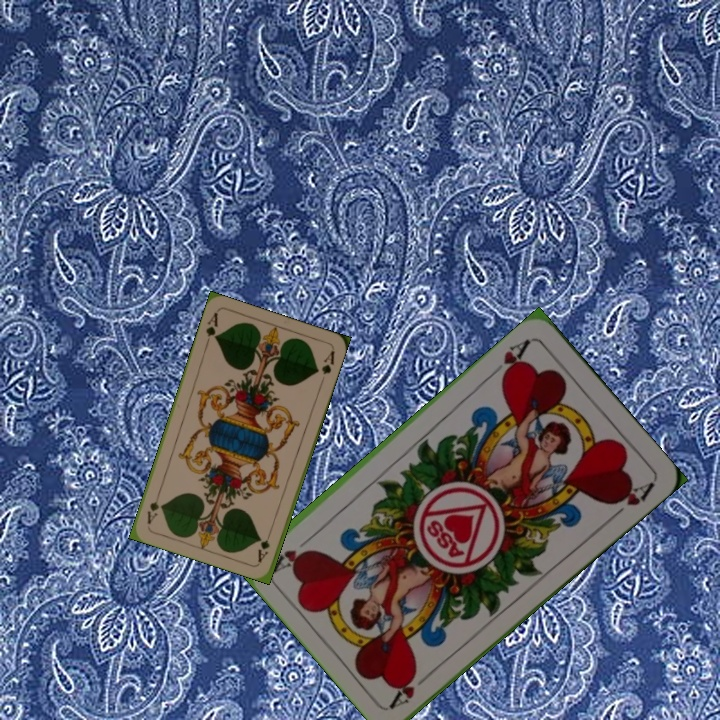GA: (254, 525, 275, 565), (201, 308, 221, 348)
HA: (486, 334, 534, 383), (386, 666, 436, 710)
